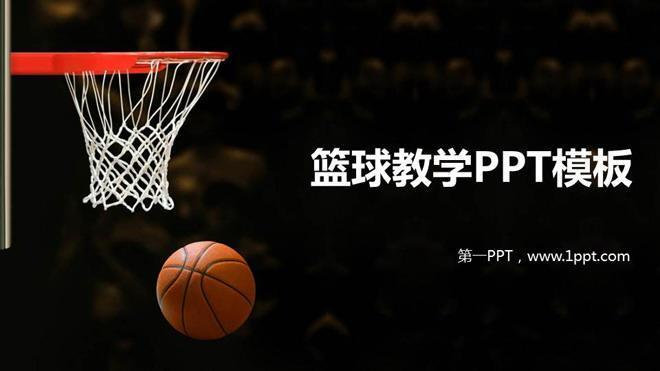ball: (156, 241, 255, 342)
rim: (56, 50, 229, 214)
